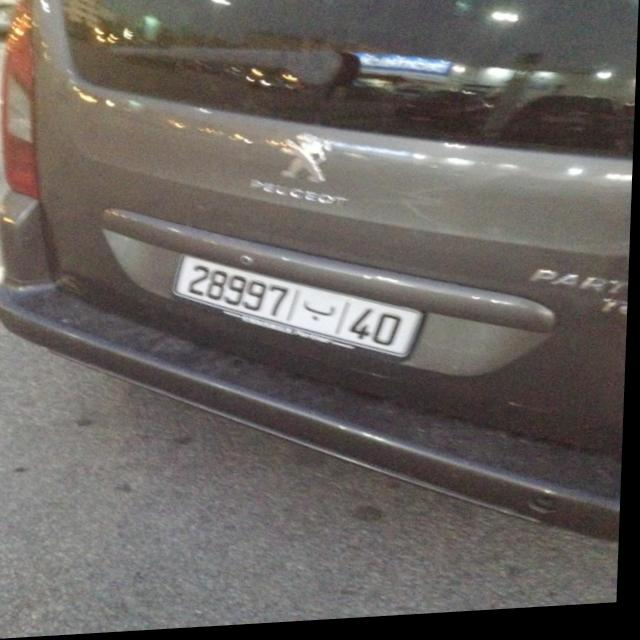License-Plate: (176, 258, 425, 361)
